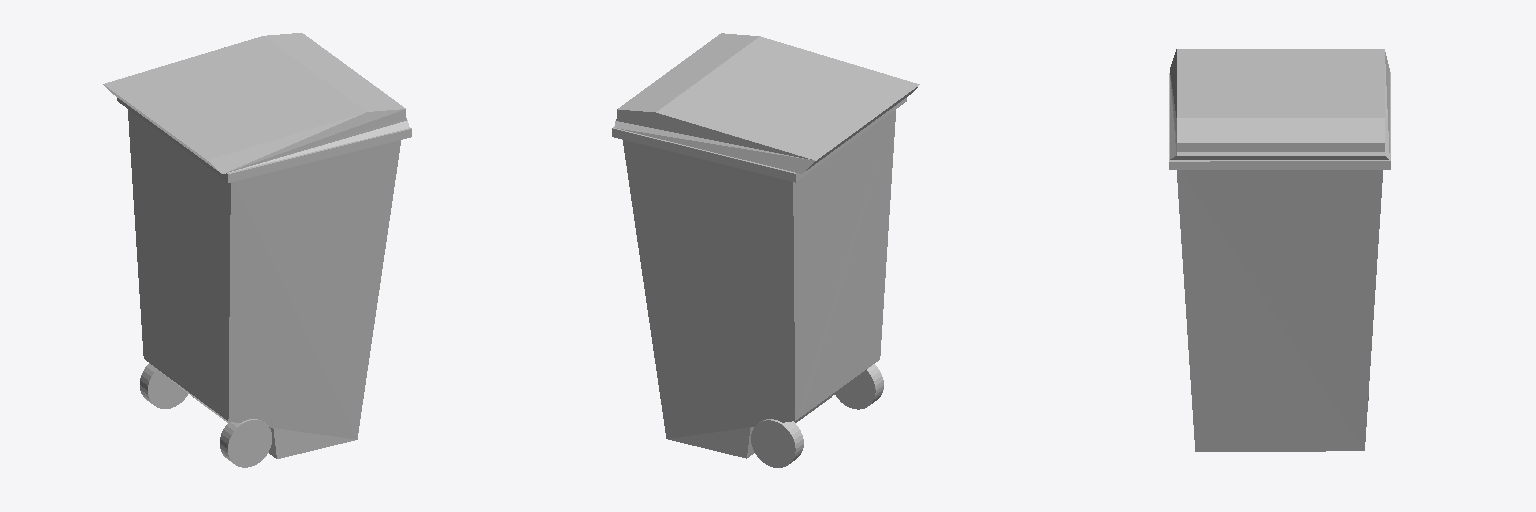
Rendered from bin.obj.
3 views of the same model, side by side, from view 1: azimuth 30°, elevation 25°; view 2: azimuth 150°, elevation 25°; view 3: azimuth 270°, elevation 25° (orthographic).
Parts seen in each view (by area): view 1: Cube, Cube.001; view 2: Cube, Cube.001; view 3: Cube, Cube.001.
Part boxes in pixels (x1,y1,x2,y2): Cube: (117,98,411,467); Cube.001: (103,33,408,173); Cube: (612,98,906,467); Cube.001: (615,33,919,173); Cube: (1169,72,1390,451); Cube.001: (1170,49,1389,159).
Bounding box in the file's own units: 1.23 × 1.96 × 1.18.